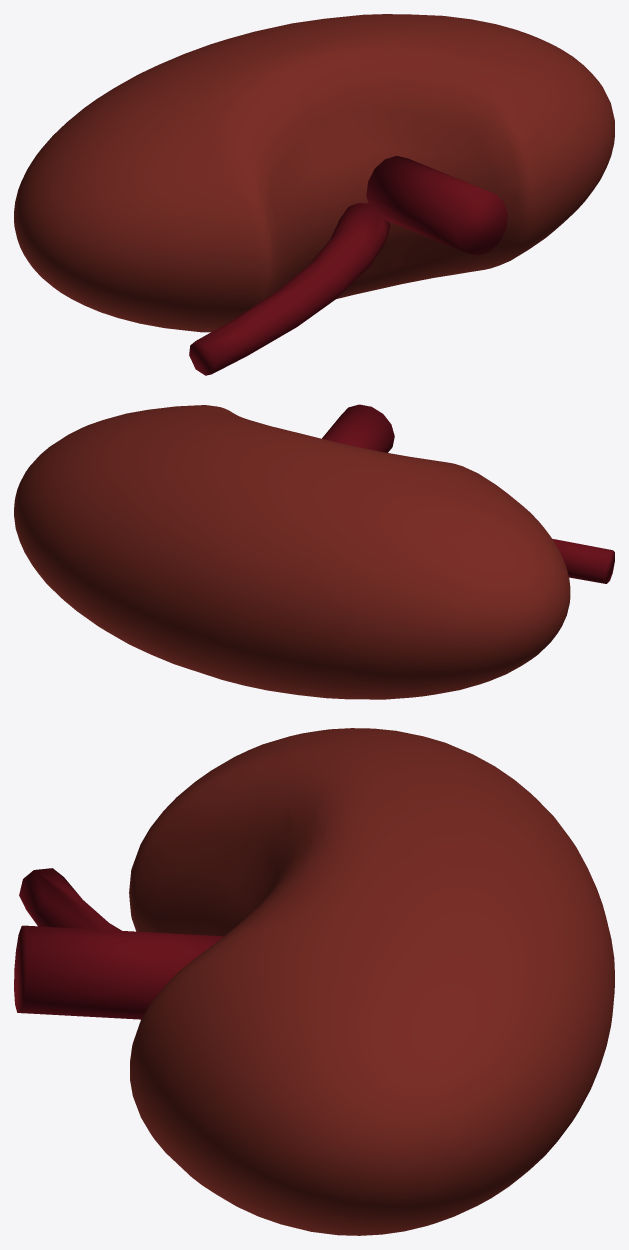
Rendered from kidney.glb.
The picture shows the model from 3 angles, top to bottom: view 1: azimuth 30°, elevation 25°; view 2: azimuth 150°, elevation 25°; view 3: azimuth 270°, elevation 25°; orthographic projection. The views are drawn at different scales.
Visible parts, largest first — view 1: Kidney, Ureter, Hilum; view 2: Kidney, Hilum, Ureter; view 3: Kidney, Hilum, Ureter.
Part boxes in pixels (x1,y1,x2,y2): Kidney: (14,14,614,332); Ureter: (189,203,390,375); Hilum: (366,155,507,255); Kidney: (14,405,570,699); Hilum: (322,404,394,452); Ureter: (553,539,614,583); Kidney: (129,728,614,1235); Hilum: (14,925,223,1019); Ureter: (19,868,121,930).
Size of the model in its own units: 1.99 by 0.8385 by 1.34.
